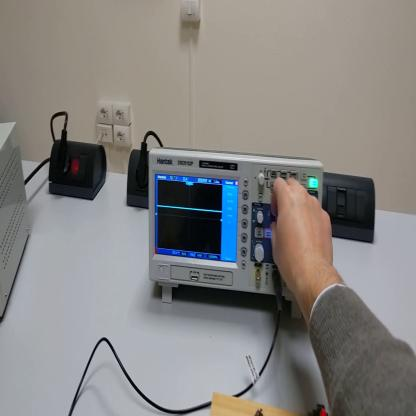hand: (271, 174, 337, 296)
low voltage board: (308, 406, 330, 413)
oscilloscope: (148, 149, 323, 320)
power supply: (2, 123, 34, 323)
socket: (51, 137, 109, 202), (127, 148, 152, 208)
working area: (210, 393, 304, 416)
